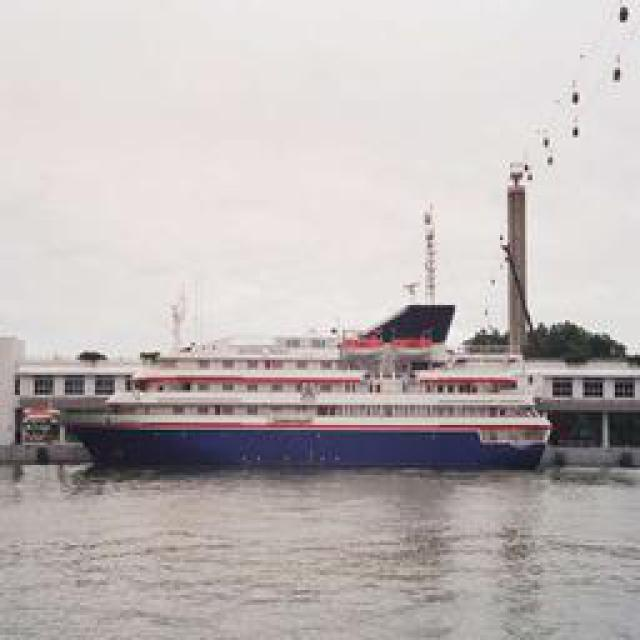Ship: (72, 342, 552, 470)
